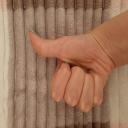ThumbsUp: (28, 25, 115, 114)
